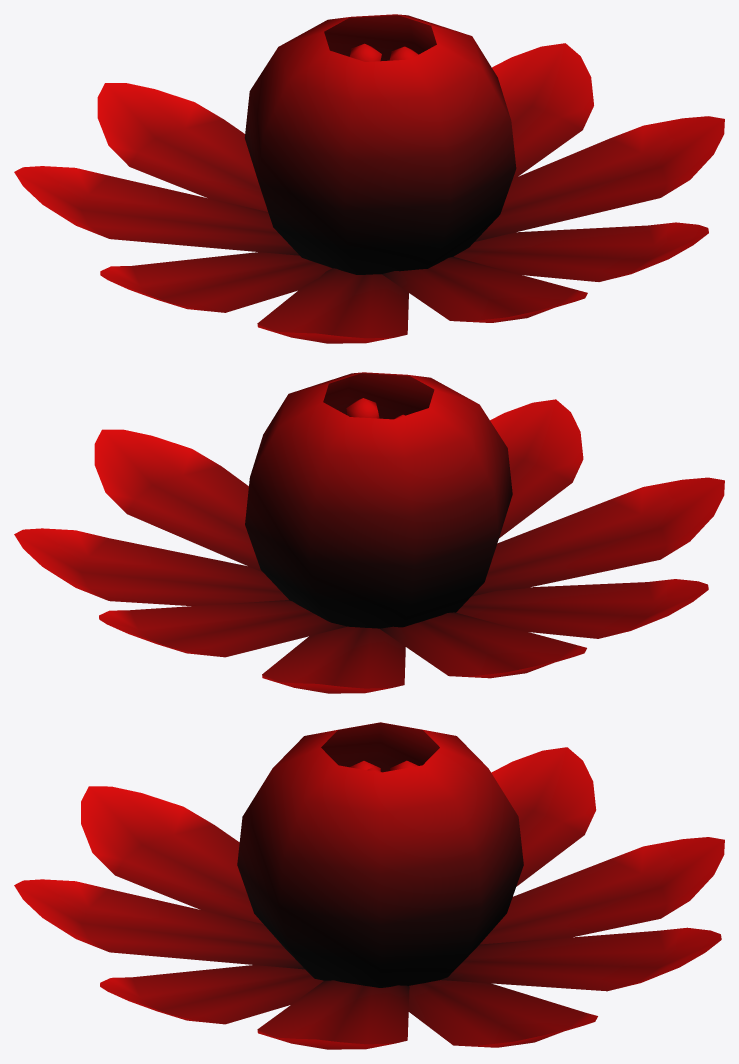
Rendered from Mesh_Flower_Passiflore.fbx.
3 renders of one model, top to bottom at view 1: azimuth 30°, elevation 25°; view 2: azimuth 150°, elevation 25°; view 3: azimuth 270°, elevation 25°, orthographic. The views are drawn at different scales.
Visible parts, largest first — view 1: Mesh_Flower_Passiflore; view 2: Mesh_Flower_Passiflore; view 3: Mesh_Flower_Passiflore.
Part boxes in pixels (<box>): Mesh_Flower_Passiflore: <box>14,14,724,343</box>; Mesh_Flower_Passiflore: <box>14,372,724,693</box>; Mesh_Flower_Passiflore: <box>14,722,724,1049</box>.
Bounding box in the file's own units: 1.21 × 0.3862 × 1.19.
